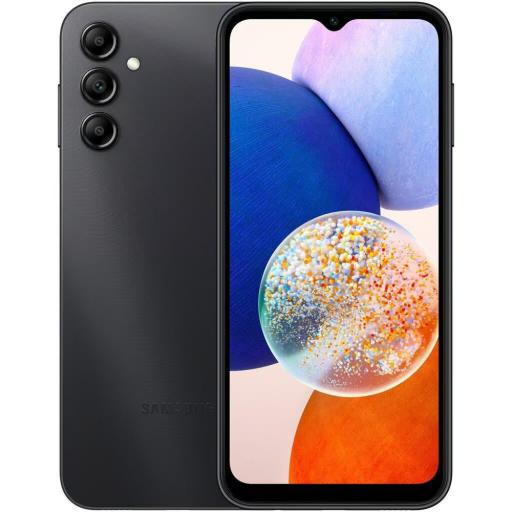phone: (214, 4, 454, 510)
